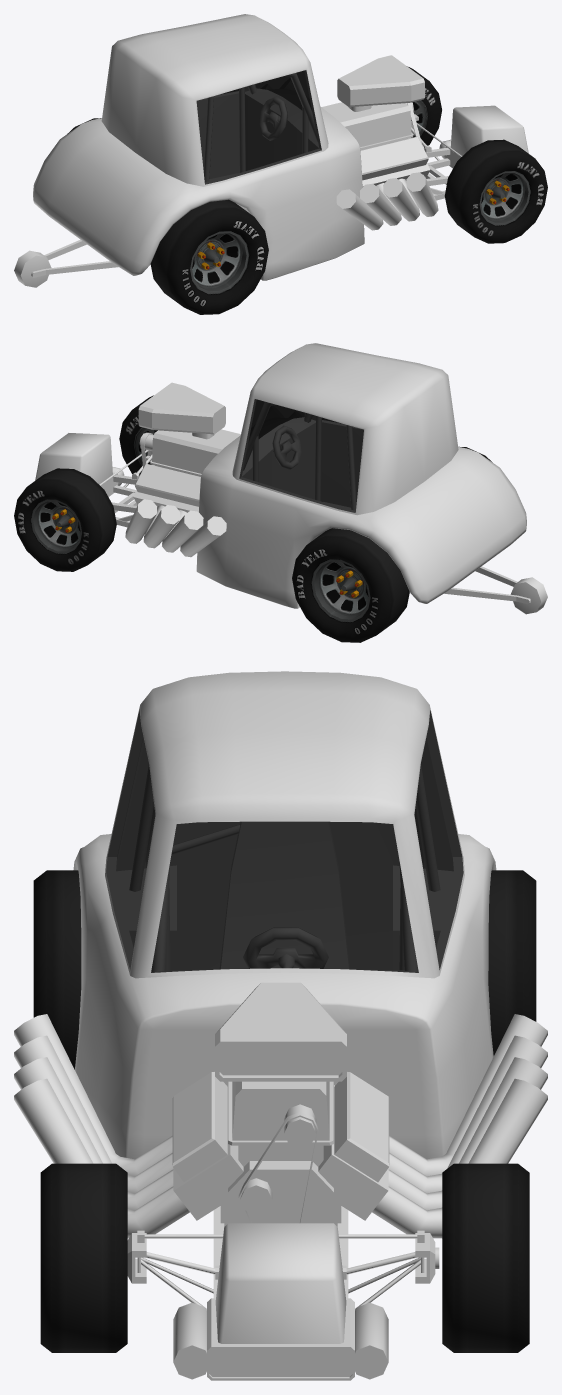
The picture shows the model from 3 angles, top to bottom: view 1: azimuth 30°, elevation 25°; view 2: azimuth 150°, elevation 25°; view 3: azimuth 270°, elevation 25°; orthographic projection. The views are drawn at different scales.
Visible parts, largest first — view 1: CarBody, TireRearR, Glass, TireFrontR, TireFrontL; view 2: CarBody, TireRearL, Glass, TireFrontL, TireFrontR; view 3: CarBody, Glass, TireFrontL, TireFrontR, TireRearR, TireRearL.
Part boxes in pixels (<box>): CarBody: <box>14,14,528,287</box>; TireRearR: <box>150,199,268,314</box>; Glass: <box>196,70,321,184</box>; TireFrontR: <box>444,139,547,243</box>; TireFrontL: <box>407,66,441,147</box>; CarBody: <box>35,343,547,614</box>; TireRearL: <box>292,528,409,642</box>; Glass: <box>239,399,363,512</box>; TireFrontL: <box>14,468,116,571</box>; TireFrontR: <box>119,395,157,475</box>; CarBody: <box>14,671,547,1380</box>; Glass: <box>106,709,463,972</box>; TireFrontL: <box>442,1163,529,1352</box>; TireFrontR: <box>40,1163,127,1352</box>; TireRearR: <box>33,870,81,1069</box>; TireRearL: <box>488,870,536,1055</box>.
Size of the model in its own units: 268 by 109 by 131.
